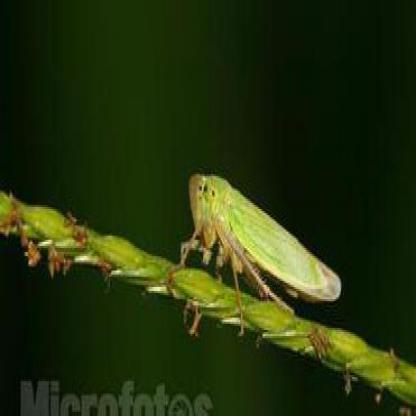Green-Leafhopper: (179, 165, 342, 336)
